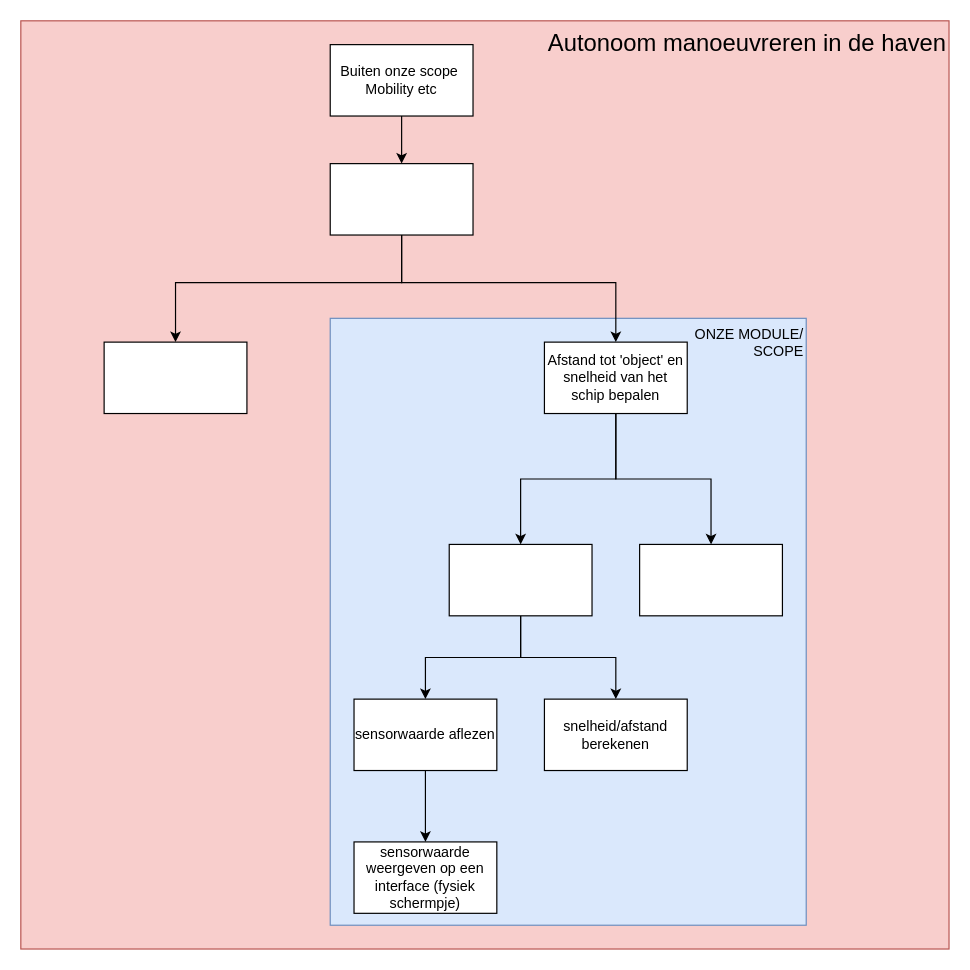
The diagram is 970 pixels wide and 970 high, and some of its shapes have lost their labels. Each missing label, with the centre of its shape:
"afstand/snelheid beweging bepalen" belongs at point 520,579.
"Autonoom aanmeren" belongs at point 401,198.
"Buiten onze scope" belongs at point 175,377.
"sensordata via MQTT naar de broker sturen" belongs at point 710,579.
